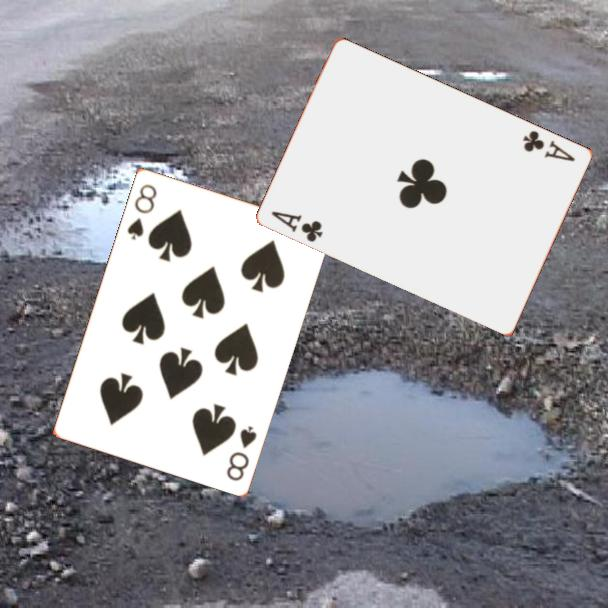c01: (268, 207, 326, 245), (520, 127, 578, 164)
s08: (123, 180, 160, 243), (222, 422, 260, 483)
